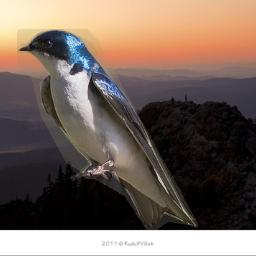Swallow: (17, 29, 198, 230)
